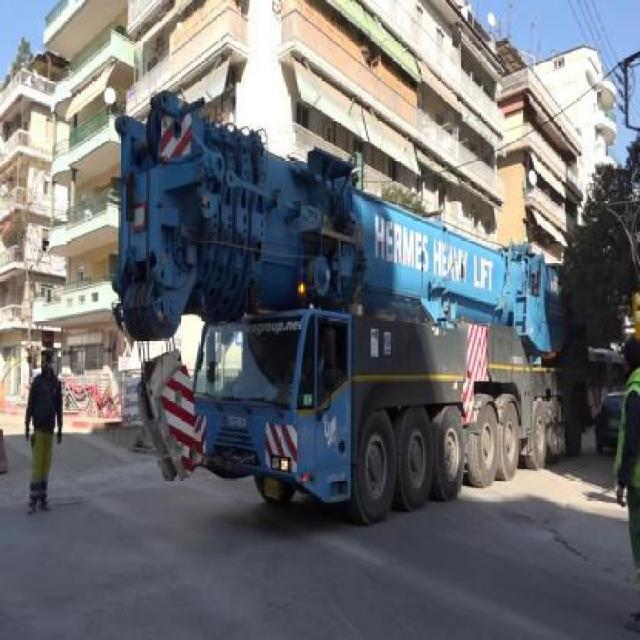Mobile Crane: (116, 96, 599, 526)
